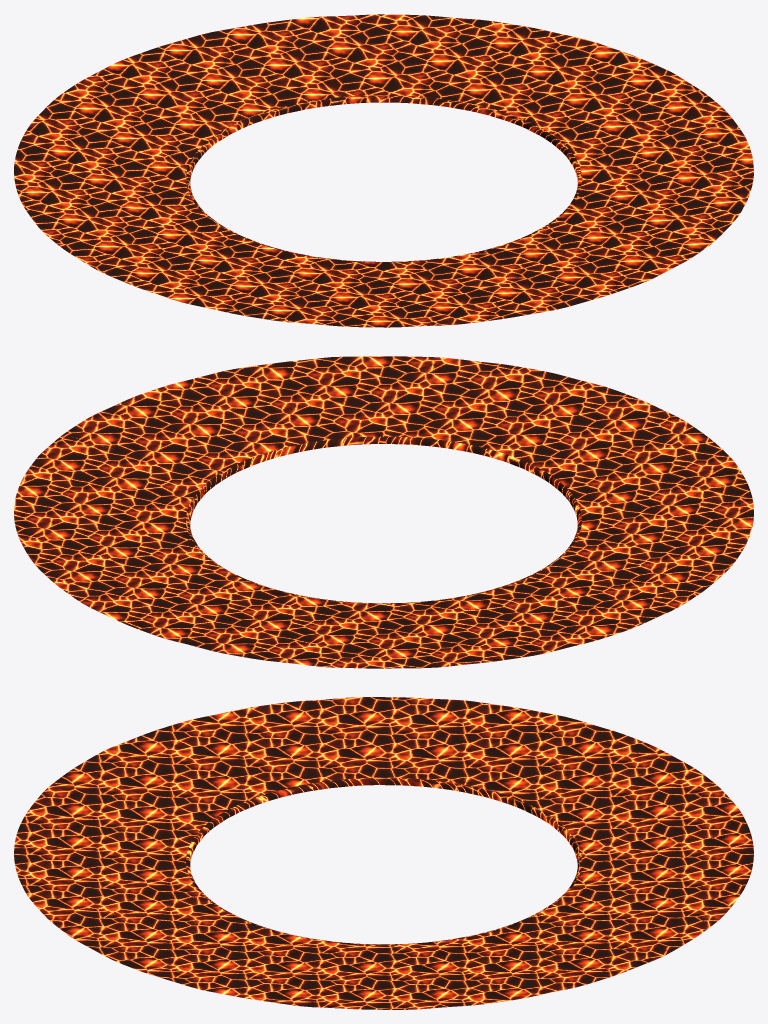
Rendered from lava_flood.glb.
3 renders of one model, top to bottom at view 1: azimuth 30°, elevation 25°; view 2: azimuth 150°, elevation 25°; view 3: azimuth 270°, elevation 25°, orthographic.
Bounding box in the file's own units: 142 × 2.95 × 142.
Materials: 1 (1 with a texture image).
